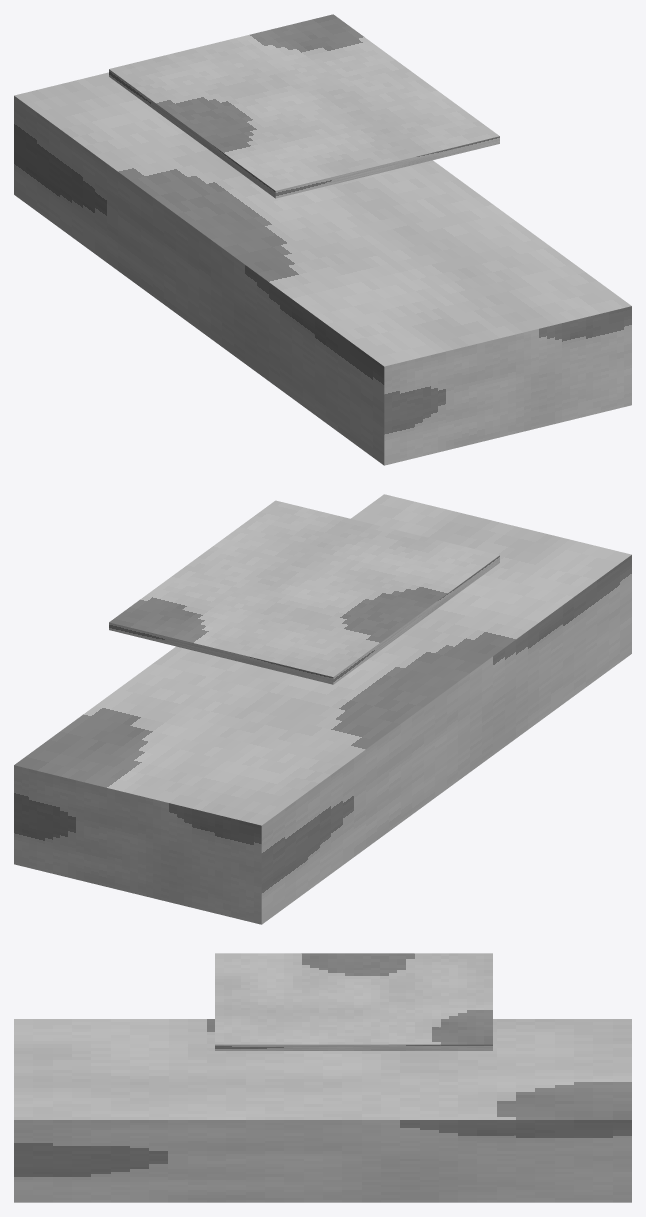
Rendered from paint.obj.
3 renders of one model, top to bottom at view 1: azimuth 30°, elevation 25°; view 2: azimuth 150°, elevation 25°; view 3: azimuth 270°, elevation 25°, orthographic. The views are drawn at different scales.
Parts seen in each view (by area): view 1: part0, part1; view 2: part0, part1; view 3: part0, part1.
Boxes of the visible parts, x1=… form: part0: x1=14, y1=72, x2=631, y2=465; part1: x1=109, y1=14, x2=499, y2=198; part0: x1=14, y1=494, x2=631, y2=924; part1: x1=109, y1=500, x2=499, y2=684; part0: x1=14, y1=1019, x2=631, y2=1202; part1: x1=215, y1=953, x2=492, y2=1050.
Bounding box in the file's own units: 1.7 × 1.21 × 4.4.
Materials: 2 (2 with a texture image).
